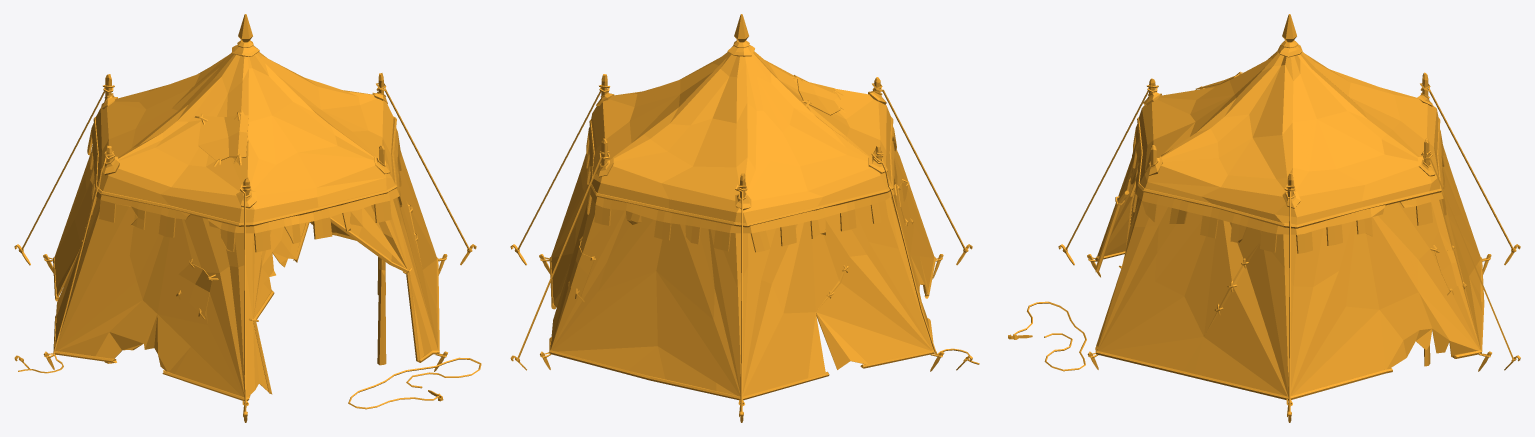
Rendered from SM_Tent_Hexagon_Plain_Repaired_Fantasy.fbx.
3 views of the same model, side by side, from view 1: azimuth 30°, elevation 25°; view 2: azimuth 150°, elevation 25°; view 3: azimuth 270°, elevation 25° (orthographic).
Visible parts, largest first — view 1: tent-hexagon-plain-repaired-fantasy; view 2: tent-hexagon-plain-repaired-fantasy; view 3: tent-hexagon-plain-repaired-fantasy.
Boxes of the visible parts, x1,y1,x2,y2 form: tent-hexagon-plain-repaired-fantasy: (14,14,481,422); tent-hexagon-plain-repaired-fantasy: (510,14,979,422); tent-hexagon-plain-repaired-fantasy: (1008,14,1520,422).
Size of the model in its own units: 8.11 by 5.31 by 7.78.
